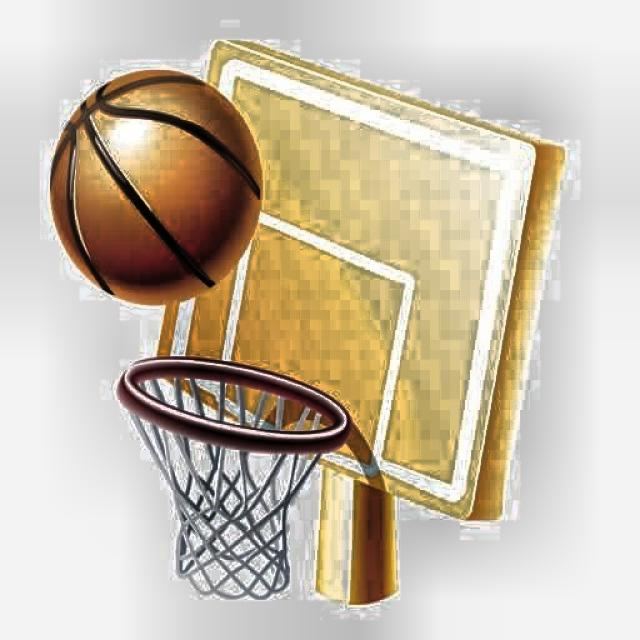board: (47, 67, 265, 307)
